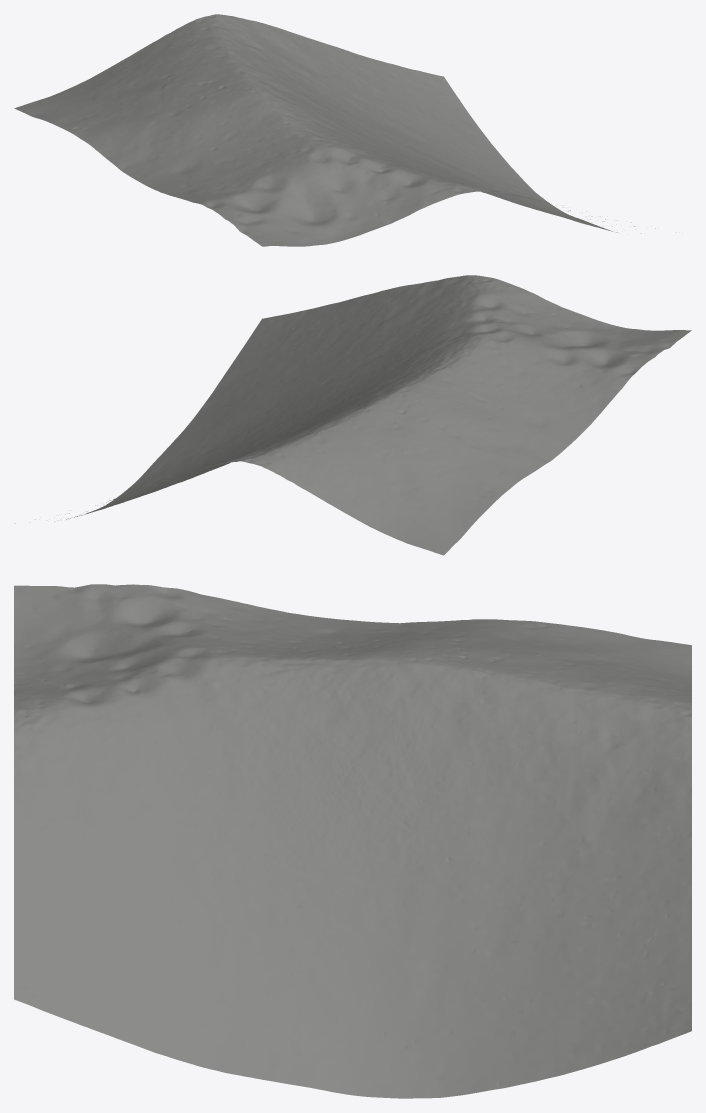
The model's file is shackleton-rim.glb.
3 renders of one model, top to bottom at view 1: azimuth 30°, elevation 25°; view 2: azimuth 150°, elevation 25°; view 3: azimuth 270°, elevation 25°, orthographic. The views are drawn at different scales.
Visible parts, largest first — view 1: Shackleton terrain.010; view 2: Shackleton terrain.010; view 3: Shackleton terrain.010.
Boxes of the visible parts, x1,y1,x2,y2 form: Shackleton terrain.010: (14,14,655,246); Shackleton terrain.010: (15,275,691,555); Shackleton terrain.010: (14,584,691,1098).
Bounding box in the file's own units: 9995 × 3981 × 9995.
1 material, 1 textured.
